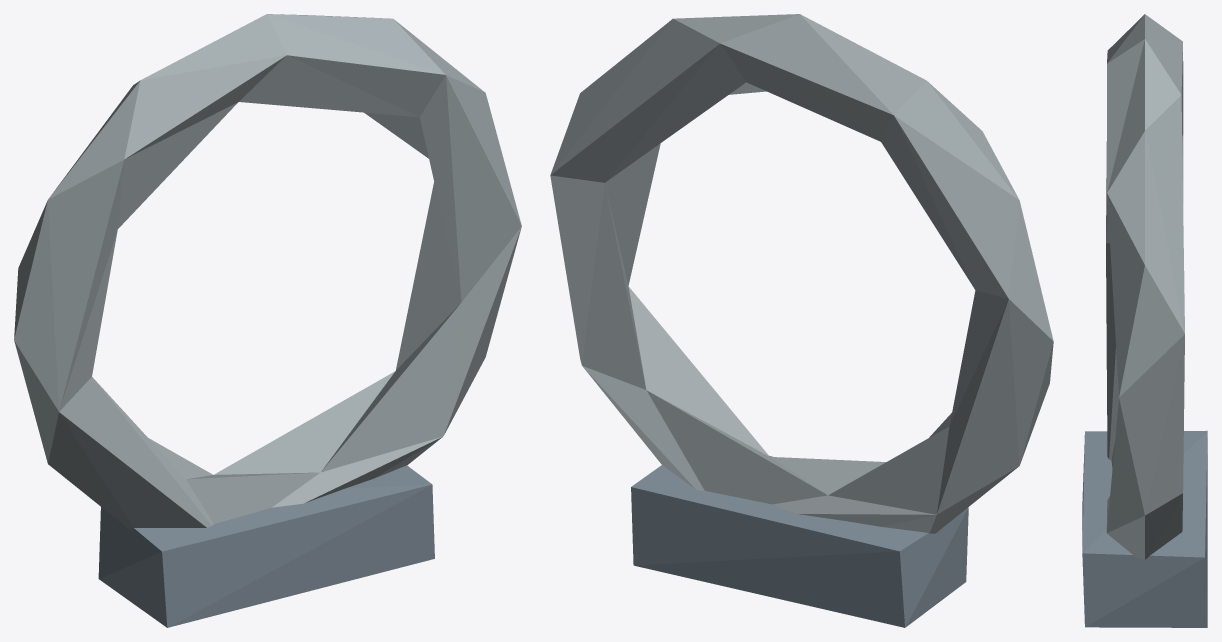
Rendered from Landmark_03_LOD1.fbx.
3 renders of one model, left to right at view 1: azimuth 30°, elevation 25°; view 2: azimuth 150°, elevation 25°; view 3: azimuth 270°, elevation 25°, orthographic. The views are drawn at different scales.
Parts seen in each view (by area): view 1: Landmark_03_LOD1; view 2: Landmark_03_LOD1; view 3: Landmark_03_LOD1.
Boxes of the visible parts, <box> form: Landmark_03_LOD1: <box>14,14,521,627</box>; Landmark_03_LOD1: <box>550,14,1053,627</box>; Landmark_03_LOD1: <box>1082,14,1207,627</box>.
Bounding box in the file's own units: 377 × 407 × 87.5.
